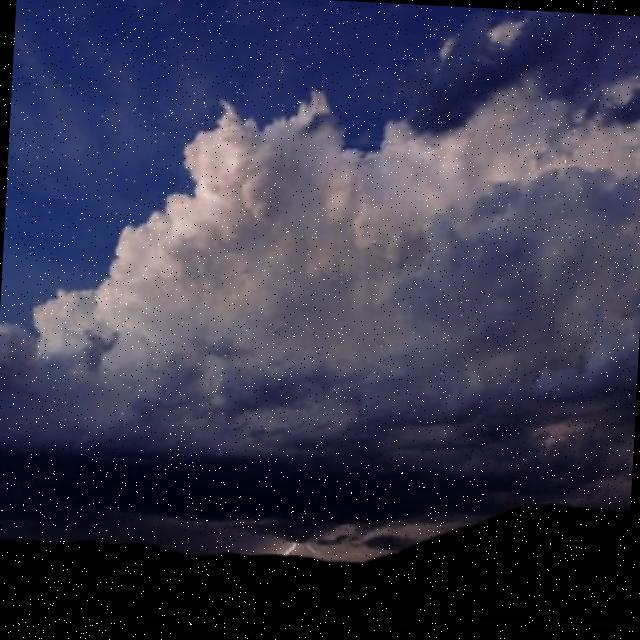Cb: (1, 17, 640, 435)
